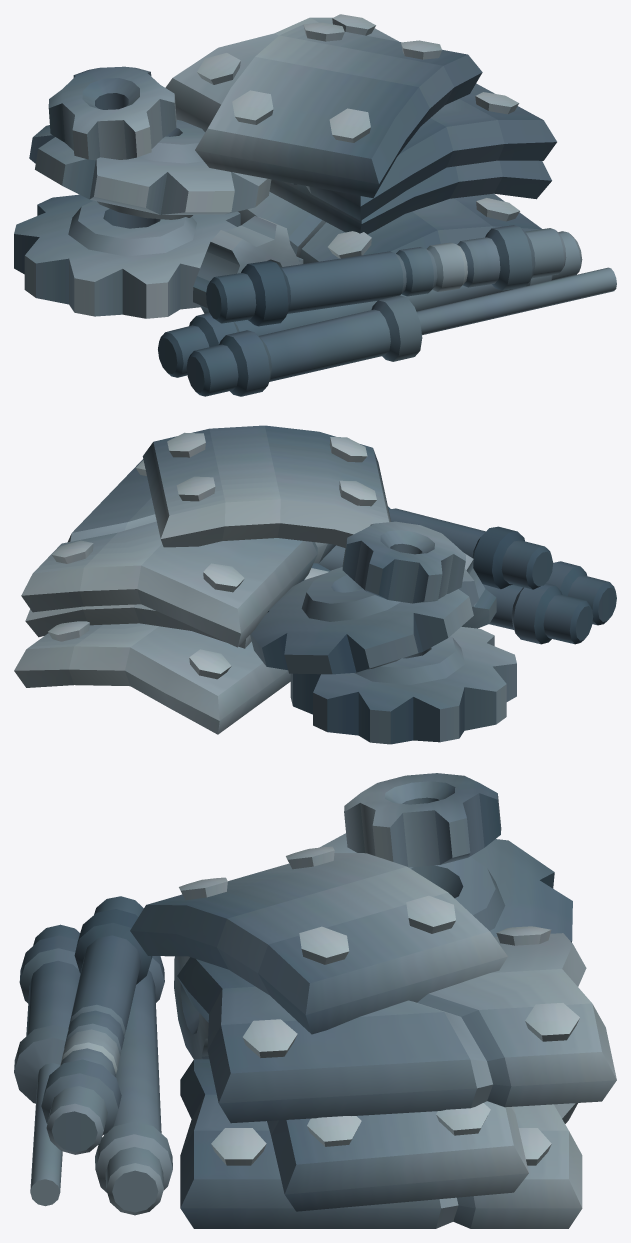
File: parts_pile_large.glb
3 renders of one model, top to bottom at view 1: azimuth 30°, elevation 25°; view 2: azimuth 150°, elevation 25°; view 3: azimuth 270°, elevation 25°, orthographic. The views are drawn at different scales.
Parts seen in each view (by area): view 1: Parts_Pile_Large; view 2: Parts_Pile_Large; view 3: Parts_Pile_Large.
Part boxes in pixels (x1,y1,x2,y2): Parts_Pile_Large: (14,14,616,396); Parts_Pile_Large: (14,425,616,744); Parts_Pile_Large: (14,773,616,1228).
Bounding box in the file's own units: 1.74 × 0.7247 × 1.57.
1 material, 1 textured.
